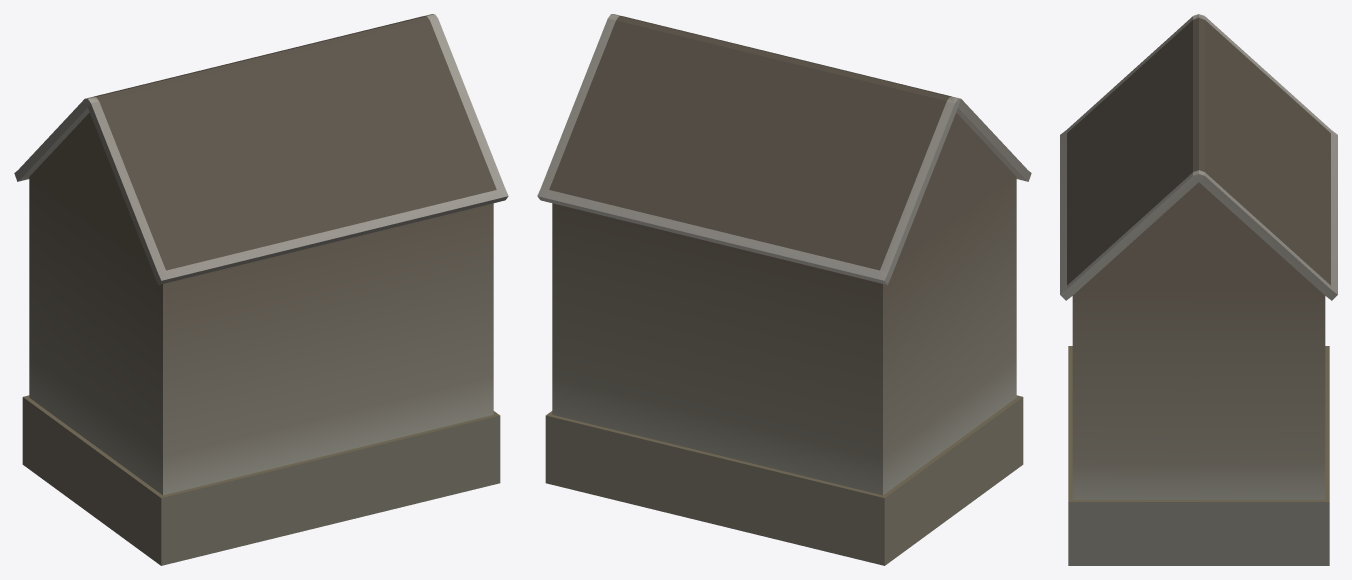
File: Base-2Floor_A.fbx
3 renders of one model, left to right at view 1: azimuth 30°, elevation 25°; view 2: azimuth 150°, elevation 25°; view 3: azimuth 270°, elevation 25°, orthographic. The views are drawn at different scales.
Parts seen in each view (by area): view 1: Base-2Floor_A; view 2: Base-2Floor_A; view 3: Base-2Floor_A.
Boxes of the visible parts, left/top/right/bottom form: Base-2Floor_A: left=14, top=14, right=508, bottom=565; Base-2Floor_A: left=537, top=14, right=1031, bottom=565; Base-2Floor_A: left=1060, top=14, right=1337, bottom=565.
Size of the model in its own units: 1050 by 1206 by 771.
